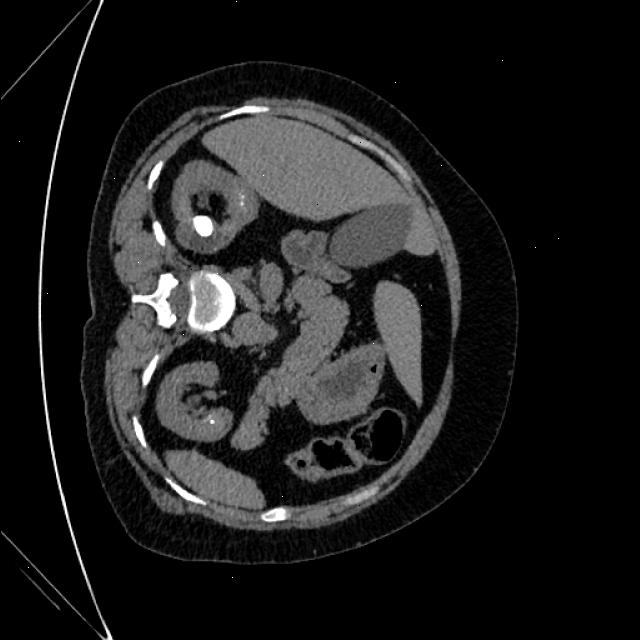kidneystone: (192, 215, 212, 238)
